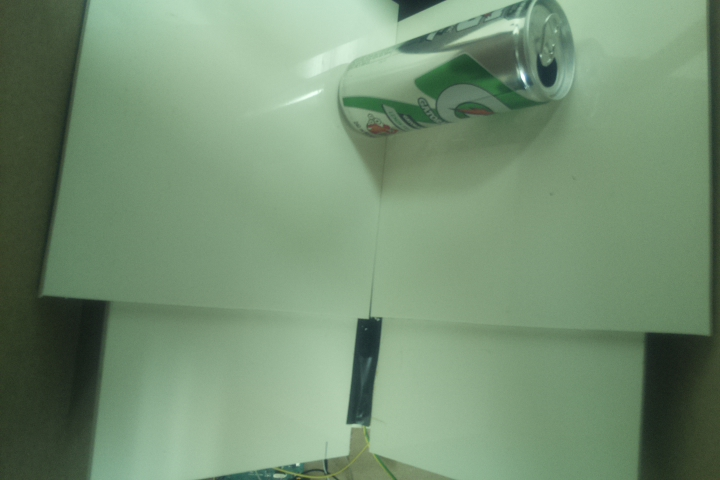can: (335, 1, 578, 140)
